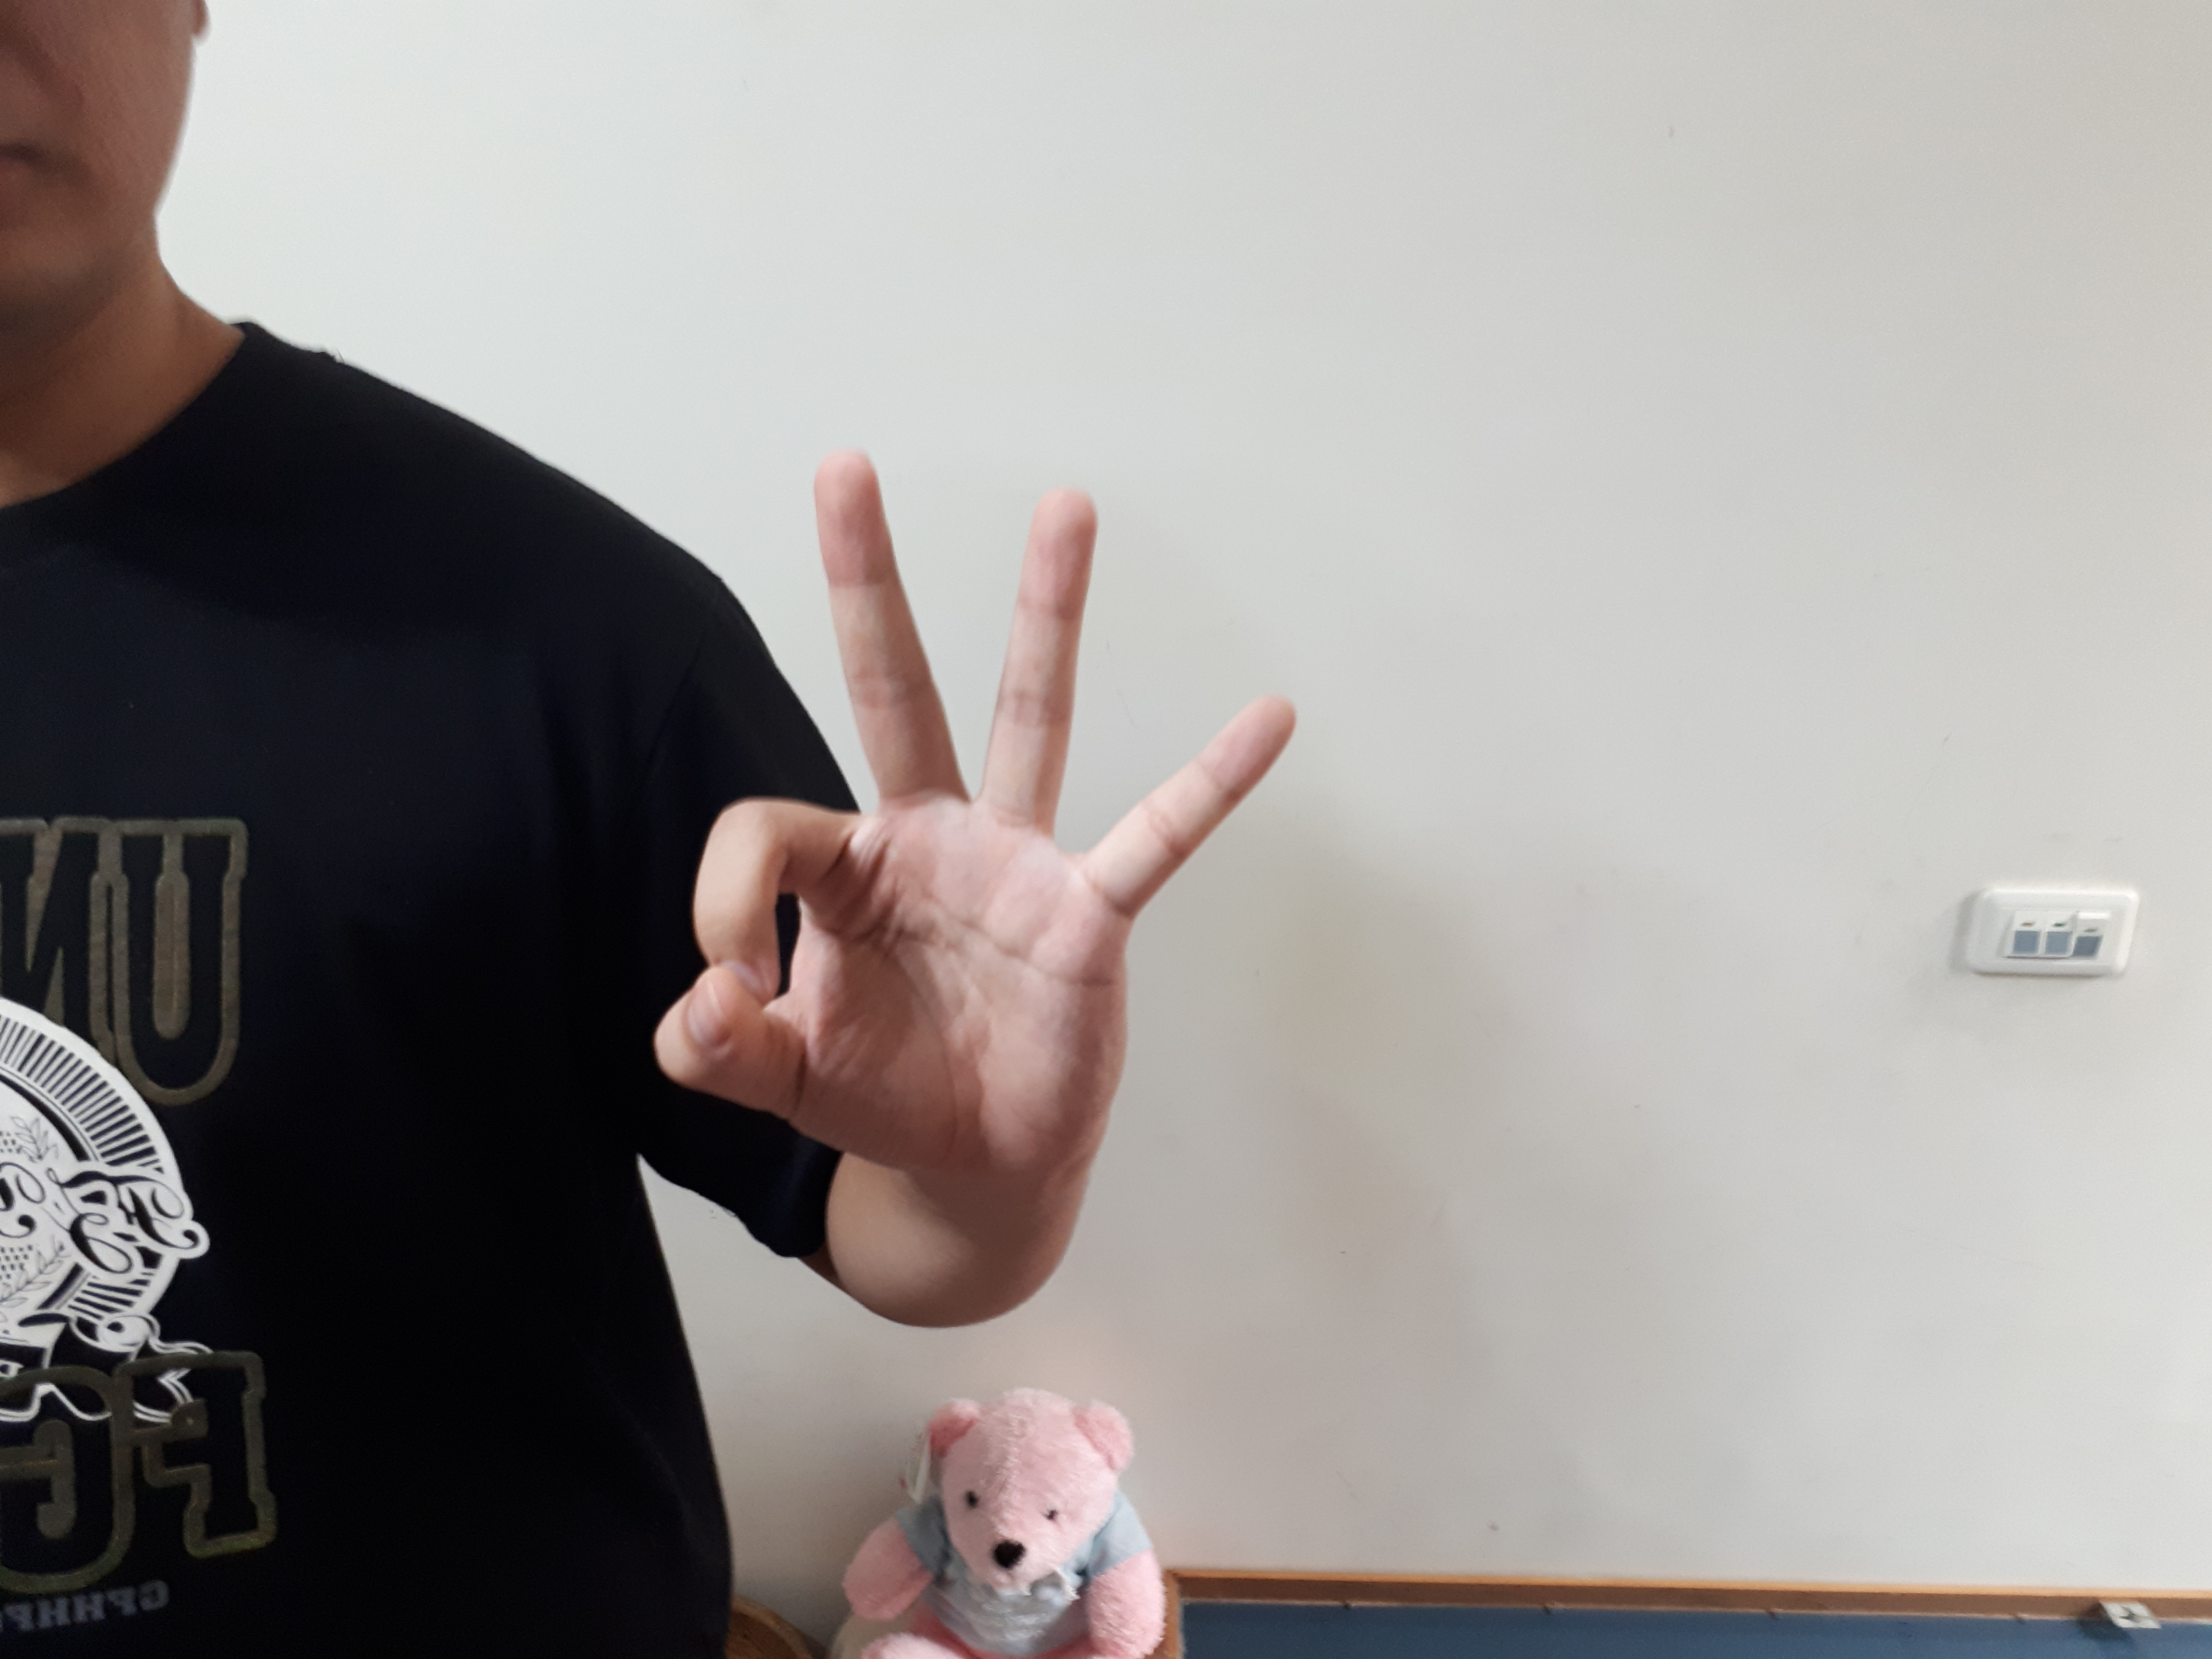ok: (639, 437, 1325, 1197)
